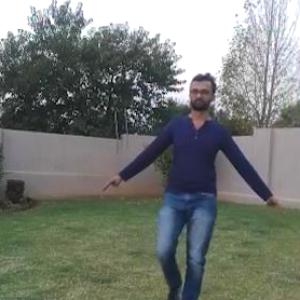land: (109, 77, 282, 299)
